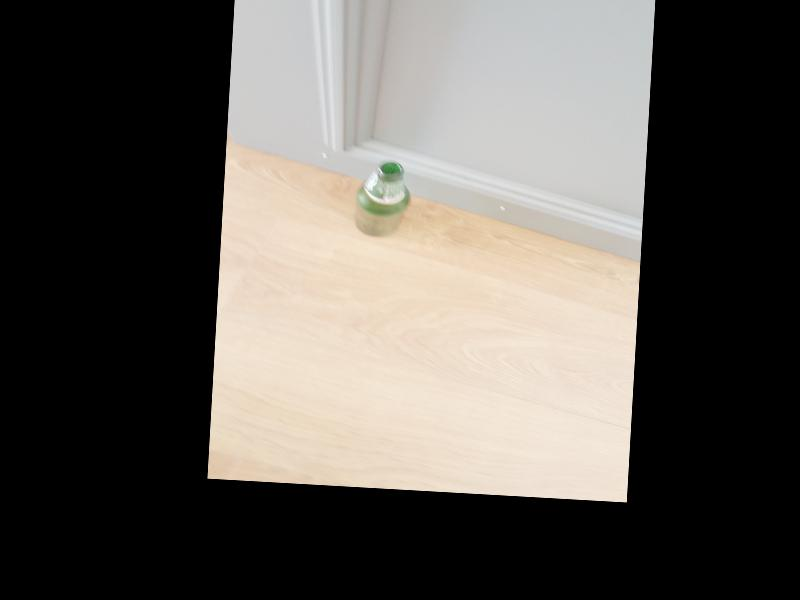Beer: (355, 160, 411, 238)
